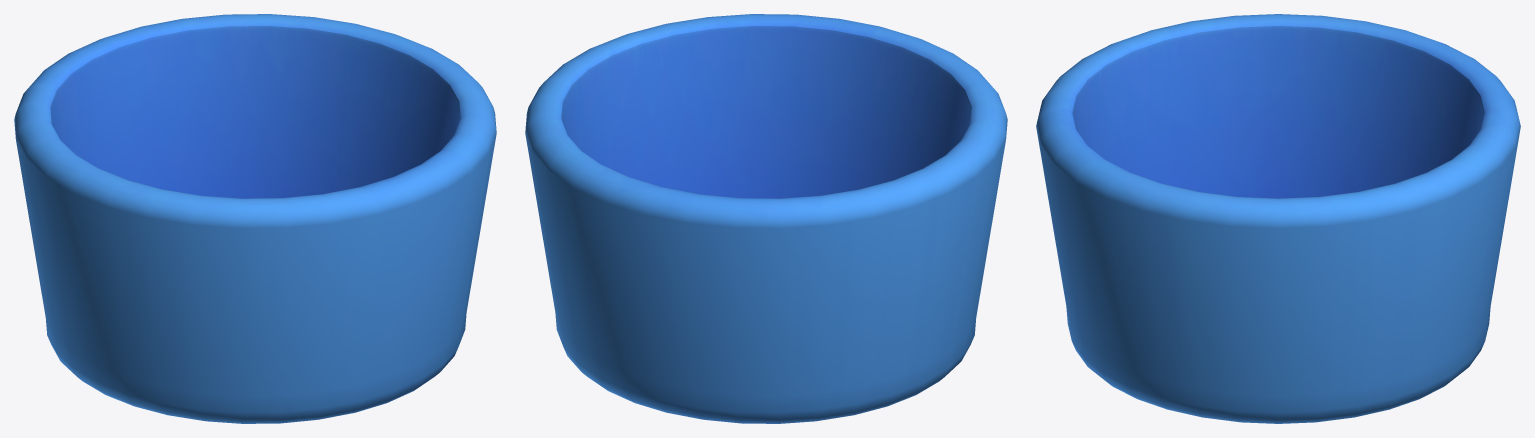
Rendered from Bucket.fbx.
3 views of the same model, side by side, from view 1: azimuth 30°, elevation 25°; view 2: azimuth 150°, elevation 25°; view 3: azimuth 270°, elevation 25° (orthographic).
Parts seen in each view (by area): view 1: Bucket; view 2: Bucket; view 3: Bucket.
Part boxes in pixels (x1=…): Bucket: x1=14, y1=14, x2=496, y2=423; Bucket: x1=525, y1=14, x2=1007, y2=423; Bucket: x1=1036, y1=14, x2=1520, y2=423.
Bounding box in the file's own units: 764 × 410 × 766.
1 material, 1 textured.
